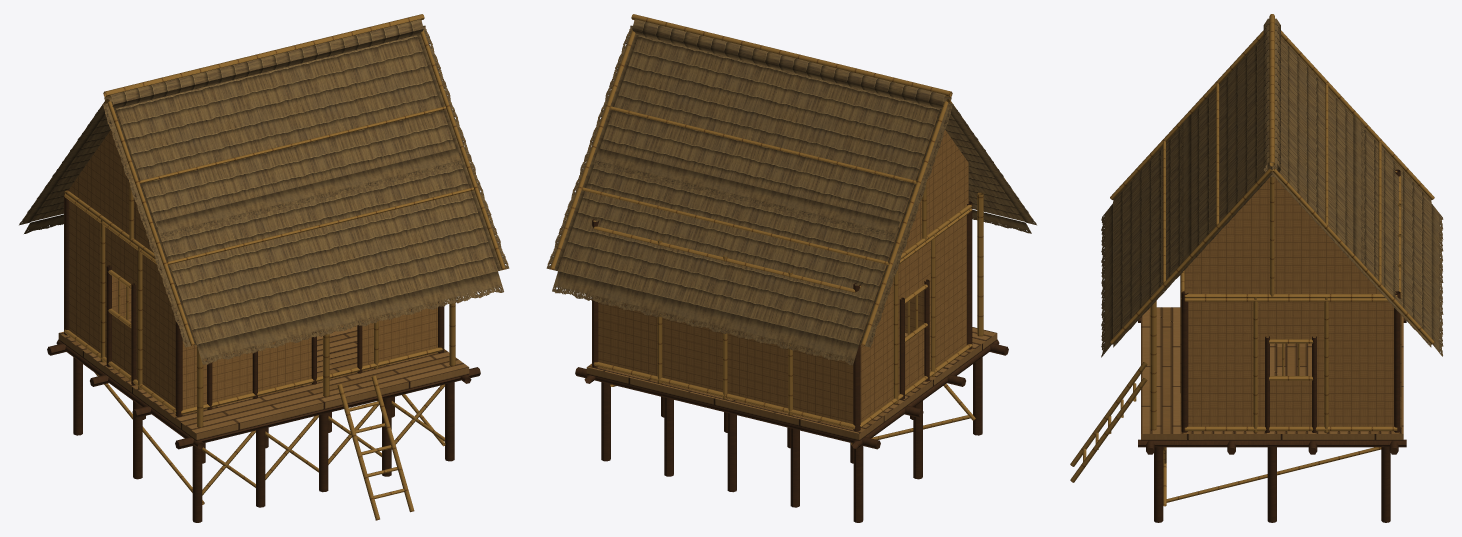
3 renders of one model, left to right at view 1: azimuth 30°, elevation 25°; view 2: azimuth 150°, elevation 25°; view 3: azimuth 270°, elevation 25°, orthographic. The views are drawn at different scales.
Parts seen in each view (by area): view 1: hut_isneg_0; view 2: hut_isneg_0; view 3: hut_isneg_0.
Boxes of the visible parts, box(x1,y1,x2,y2) form: hut_isneg_0: box(19, 14, 509, 522); hut_isneg_0: box(546, 14, 1036, 522); hut_isneg_0: box(1070, 14, 1443, 522).
Size of the model in its own units: 5.86 by 6.61 by 6.03.
6 materials, 6 textured.
